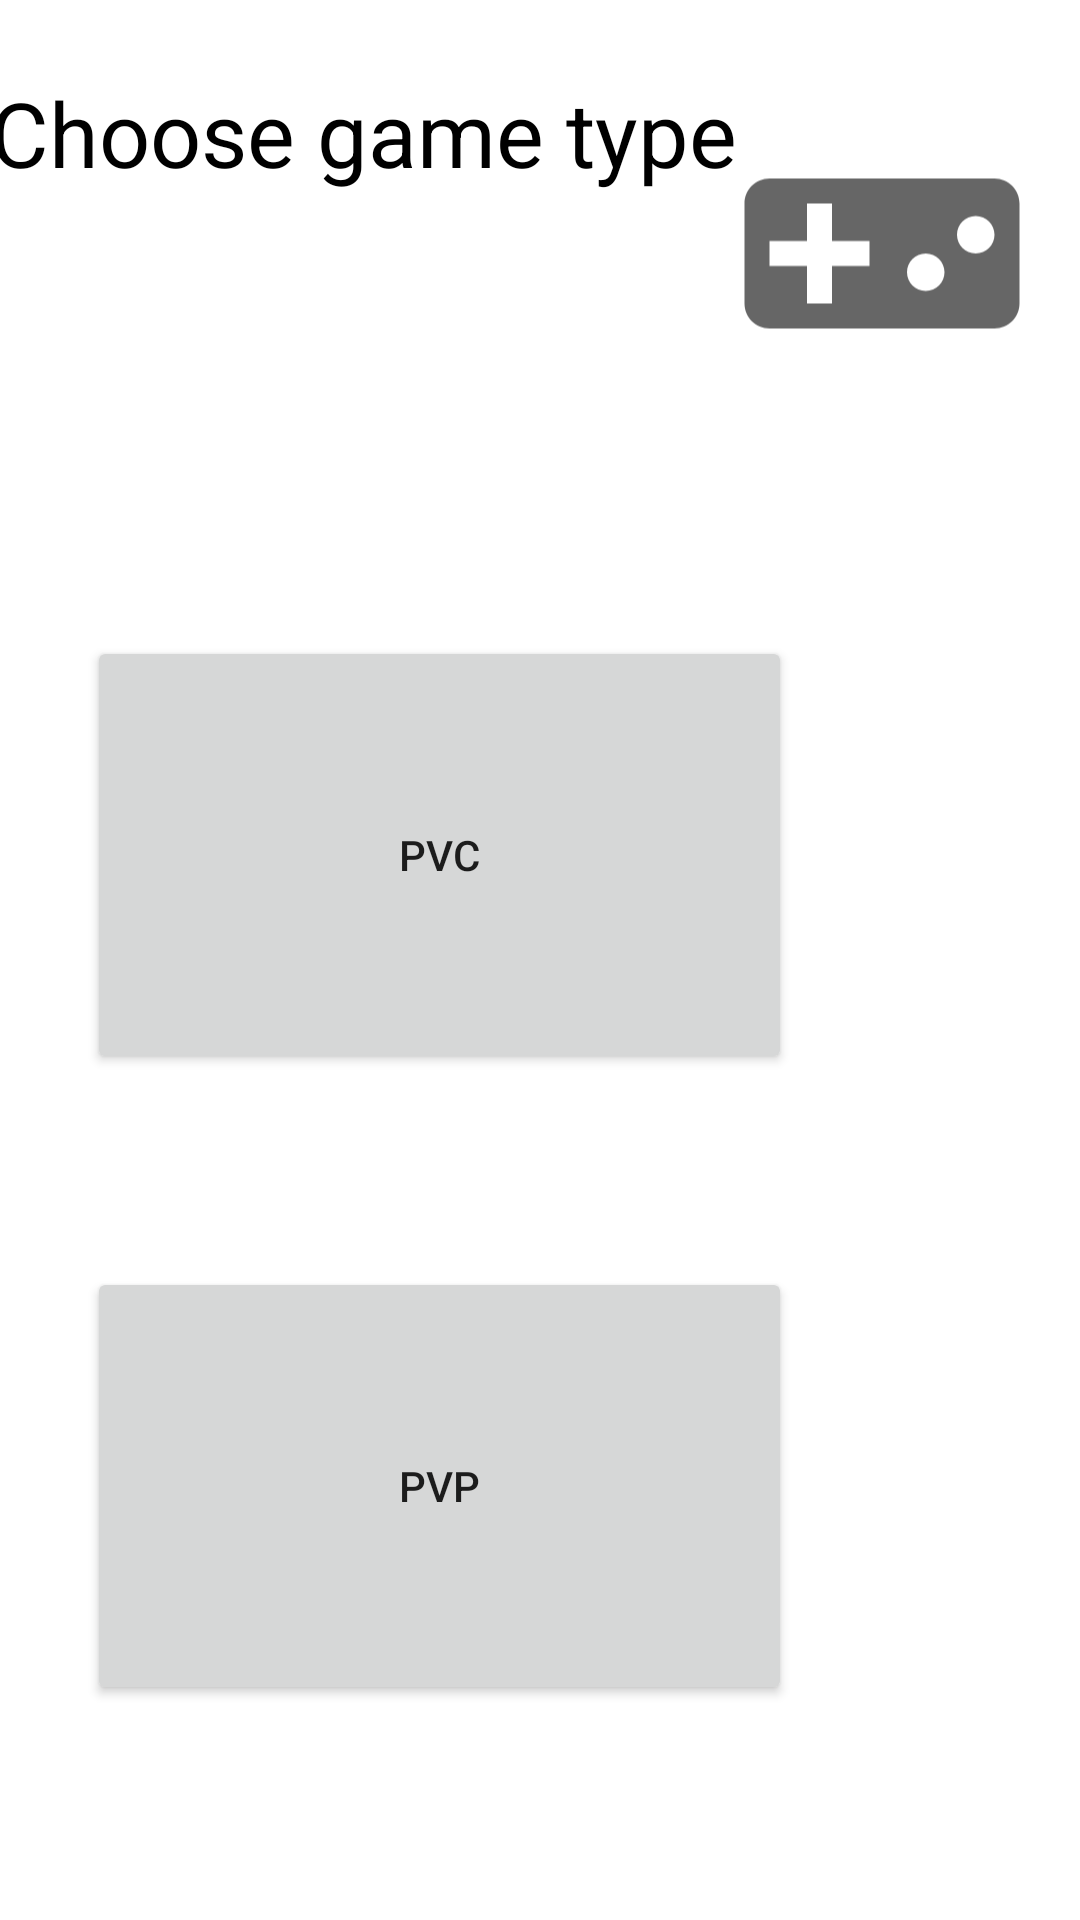

Where to tap for icons on this 1080 x 1920 app screen, as point (x, y):
videogame: point (882, 253)
